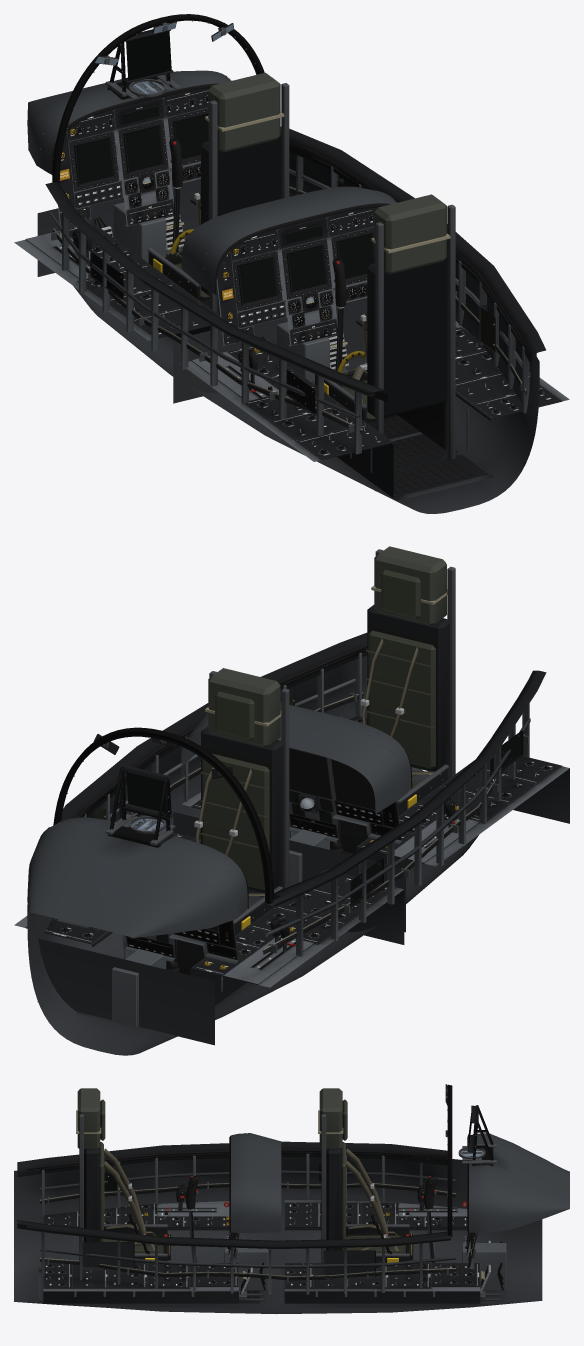
The model's file is peregrine.glb.
The picture shows the model from 3 angles, top to bottom: view 1: azimuth 30°, elevation 25°; view 2: azimuth 150°, elevation 25°; view 3: azimuth 270°, elevation 25°; orthographic projection. The views are drawn at different scales.
Parts seen in each view (by area): view 1: Rear_Static_black, Rear_Static_atlas, Static_paint_dark, Static_black, Static_atlas, Static_paint, Canopy_attached__black, Rear_Static_cover, Rear_Static_paint_dark, Rear_Static_metal_dark, Static_chute, Rear_Static_chute (+19 smaller); view 2: Static_paint_dark, Static_cover, Static_paint, Rear_Static_black, Static_black, Static_atlas, Rear_Static_cushion, Canopy_attached__black, Rear_Static_atlas, Static_cushion, Rear_Static_cover, Rear_Static_paint_dark (+12 smaller); view 3: Static_paint_dark, Static_cover, Static_atlas, Rear_Static_atlas, Static_black, Static_paint, Rear_Static_cover, Canopy_attached__black, Rear_Static_black, Rear_Static_paint_dark, Static_wire, Static_metal_dark (+16 smaller).
Boxes of the visible parts, bbox=[...] form: Rear_Static_black: bbox=[191, 208, 562, 496]; Rear_Static_atlas: bbox=[180, 196, 569, 461]; Static_paint_dark: bbox=[37, 152, 539, 513]; Static_black: bbox=[25, 29, 536, 396]; Static_atlas: bbox=[14, 76, 227, 340]; Static_paint: bbox=[49, 76, 530, 454]; Canopy_attached__black: bbox=[45, 21, 545, 402]; Rear_Static_cover: bbox=[181, 186, 505, 355]; Rear_Static_paint_dark: bbox=[173, 298, 492, 500]; Rear_Static_metal_dark: bbox=[192, 192, 561, 495]; Static_chute: bbox=[208, 72, 280, 152]; Rear_Static_chute: bbox=[374, 194, 446, 274]; Static_paint_dark: bbox=[27, 655, 479, 1055]; Static_cover: bbox=[27, 792, 247, 938]; Static_paint: bbox=[45, 652, 530, 1027]; Rear_Static_black: bbox=[191, 605, 561, 863]; Static_black: bbox=[26, 648, 484, 984]; Static_atlas: bbox=[14, 827, 403, 987]; Rear_Static_cushion: bbox=[289, 569, 435, 789]; Canopy_attached__black: bbox=[61, 632, 546, 906]; Rear_Static_atlas: bbox=[181, 716, 569, 866]; Static_cushion: bbox=[93, 691, 269, 907]; Rear_Static_cover: bbox=[181, 689, 411, 813]; Rear_Static_paint_dark: bbox=[173, 768, 569, 932]; Static_paint_dark: bbox=[14, 1156, 542, 1314]; Static_cover: bbox=[323, 1133, 569, 1278]; Static_atlas: bbox=[284, 1200, 480, 1291]; Rear_Static_atlas: bbox=[43, 1201, 238, 1291]; Static_black: bbox=[27, 1105, 493, 1288]; Static_paint: bbox=[40, 1153, 506, 1296]; Rear_Static_cover: bbox=[82, 1133, 281, 1270]; Canopy_attached__black: bbox=[17, 1084, 448, 1248]; Rear_Static_black: bbox=[43, 1148, 260, 1303]; Rear_Static_paint_dark: bbox=[38, 1269, 268, 1303]; Static_wire: bbox=[40, 1184, 503, 1290]; Static_metal_dark: bbox=[42, 1089, 501, 1300].
Bounding box in the file's own units: 2.13 × 1.92 × 4.87.
Materials: 26 (1 with a texture image).
